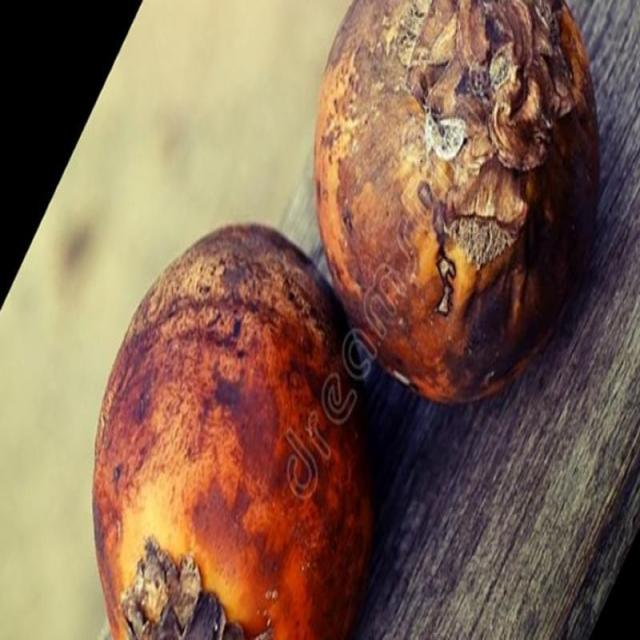damaged: (92, 223, 379, 639), (311, 0, 602, 409)
